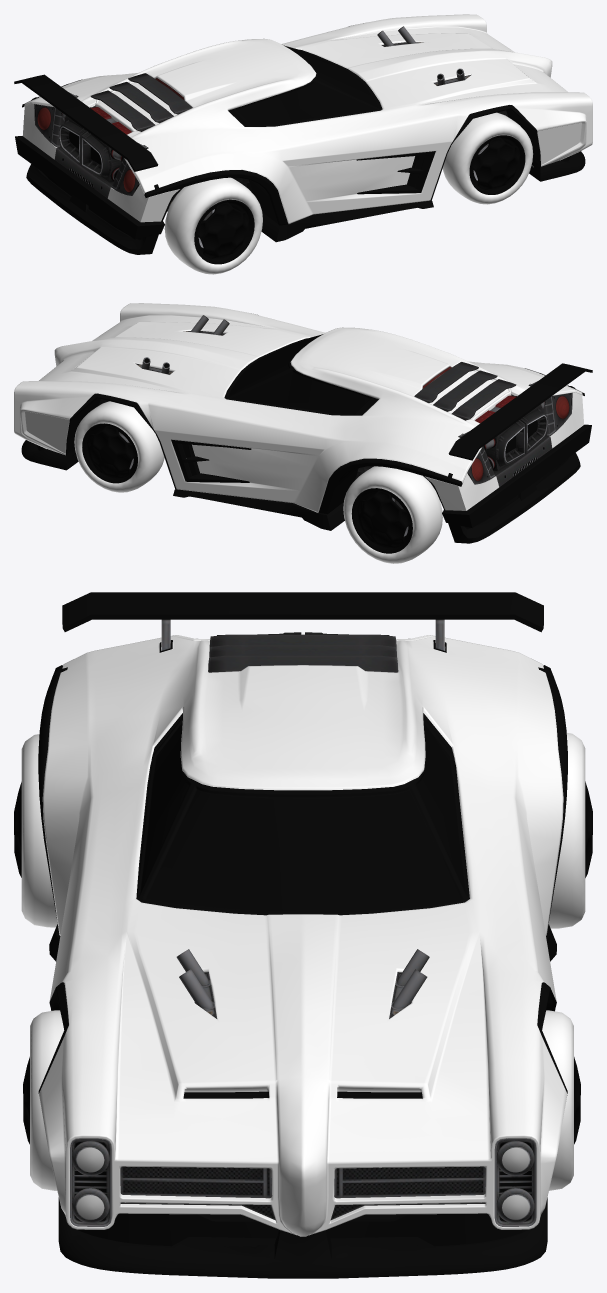
File: Dominus.fbx
3 views of the same model, one above another, from view 1: azimuth 30°, elevation 25°; view 2: azimuth 150°, elevation 25°; view 3: azimuth 270°, elevation 25° (orthographic). The views are drawn at different scales.
Visible parts, largest first — view 1: Dominus, Cristiano - BR (Dominus), Cristiano - FR (Dominus); view 2: Dominus, Cristiano - BL (Dominus), Cristiano - FL (Dominus); view 3: Dominus, Cristiano - BL (Dominus), Cristiano - BR (Dominus), Cristiano - FR (Dominus), Cristiano - FL (Dominus).
Part boxes in pixels (left/top/right/bottom): Dominus: left=14, top=14, right=592, bottom=254; Cristiano - BR (Dominus): left=164, top=177, right=262, bottom=274; Cristiano - FR (Dominus): left=442, top=112, right=533, bottom=204; Dominus: left=14, top=303, right=592, bottom=543; Cristiano - BL (Dominus): left=343, top=466, right=442, bottom=563; Cristiano - FL (Dominus): left=74, top=401, right=164, bottom=492; Dominus: left=38, top=592, right=567, bottom=1278; Cristiano - BL (Dominus): left=548, top=733, right=592, bottom=928; Cristiano - BR (Dominus): left=14, top=734, right=57, bottom=927; Cristiano - FR (Dominus): left=23, top=1010, right=64, bottom=1190; Cristiano - FL (Dominus): left=542, top=1010, right=580, bottom=1190.
Size of the model in its own units: 151 by 42.04 by 79.25.
Materials: 7 (3 with a texture image).
